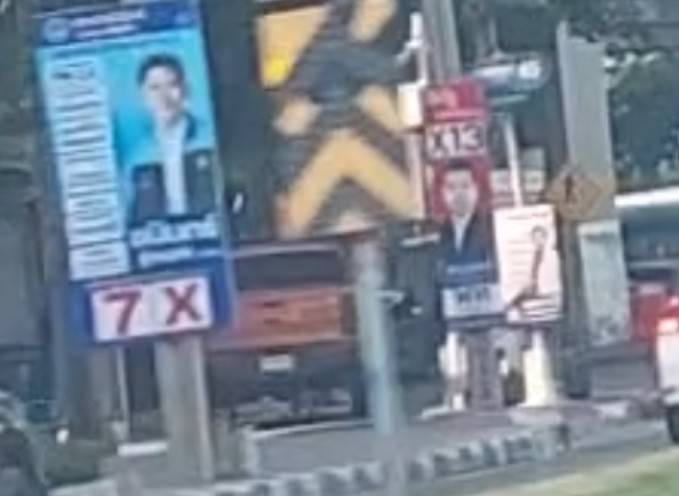Banner: (27, 0, 232, 349), (420, 86, 506, 315)
